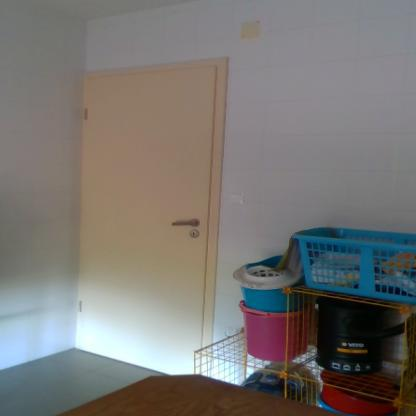door: (85, 78, 204, 376)
hinged: (83, 106, 88, 120), (78, 300, 83, 313)
lever: (170, 220, 198, 228)
